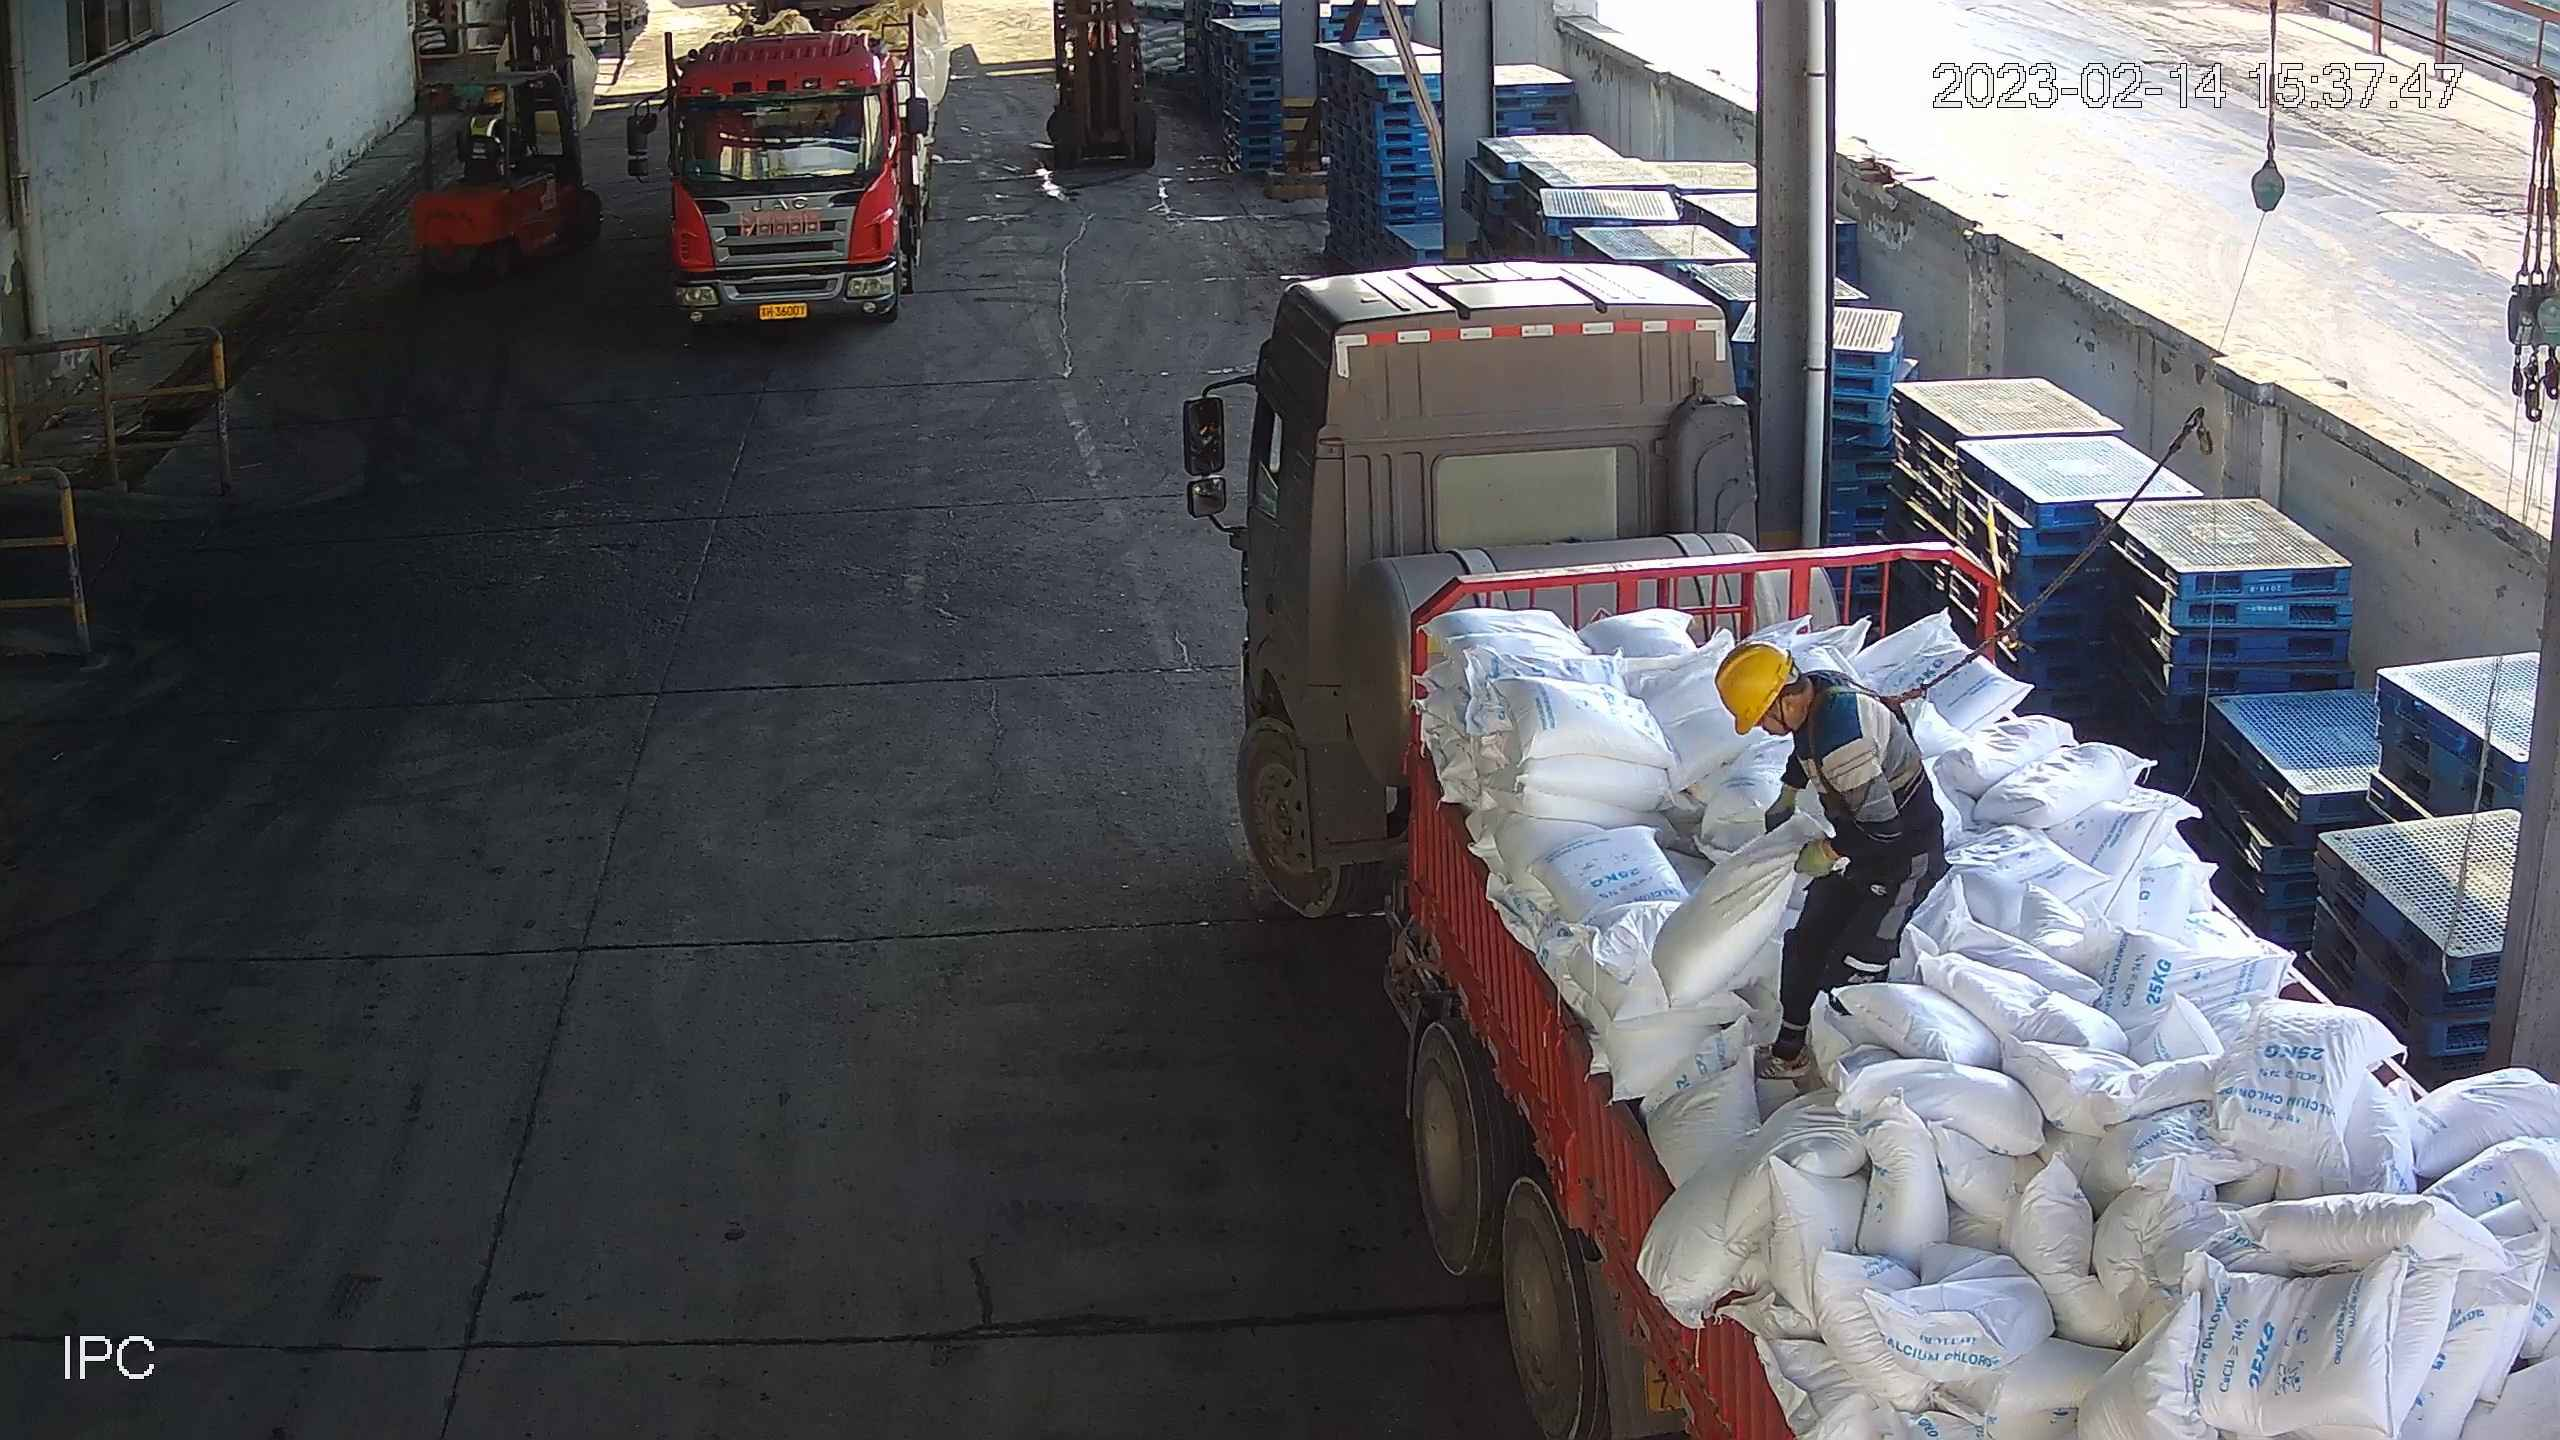belt: (1807, 679, 1931, 791)
head: (1712, 643, 1894, 790), (461, 91, 511, 127)
helmet: (1712, 638, 1805, 736), (477, 84, 514, 108)
people: (1709, 636, 1953, 1101)
truck: (1162, 269, 2560, 1440), (644, 10, 968, 353)
